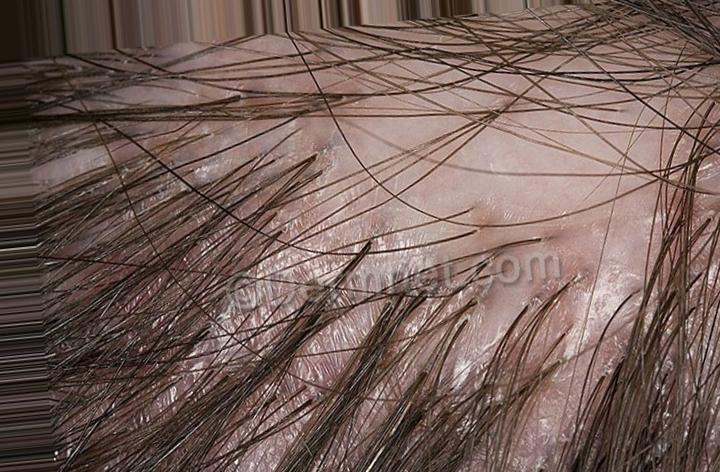Folliculitis: (288, 33, 655, 359)
